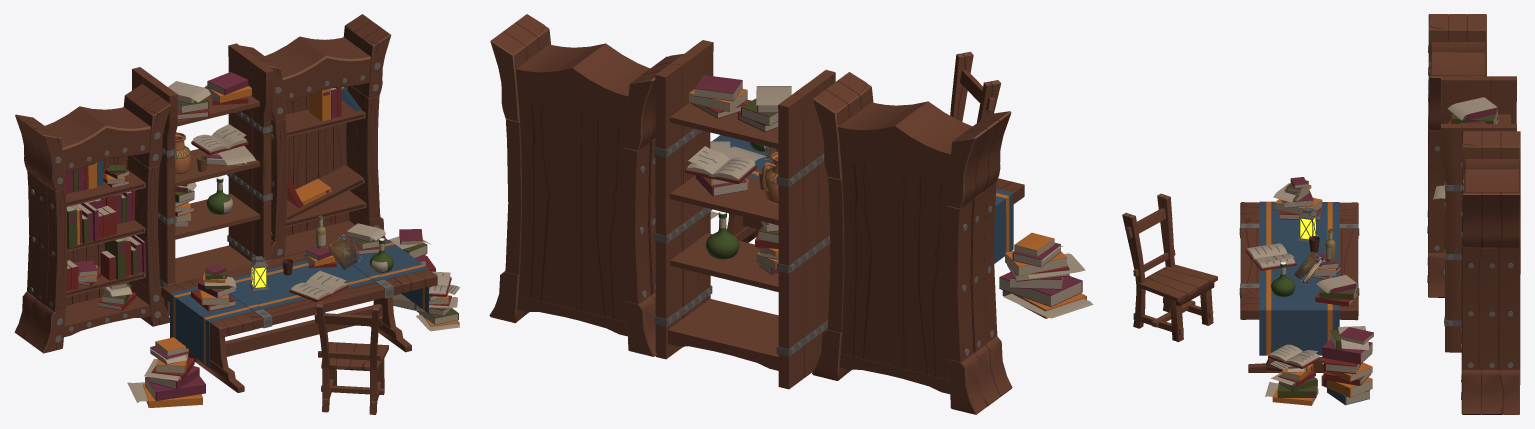
File: bookshelf.glb
3 views of the same model, side by side, from view 1: azimuth 30°, elevation 25°; view 2: azimuth 150°, elevation 25°; view 3: azimuth 270°, elevation 25° (orthographic). The views are drawn at different scales.
Parts seen in each view (by area): view 1: Object_13, Object_15, Object_18, Object_14, Object_20, Object_12, Object_7, Object_8, Object_9, Object_11, Object_19, Object_10 (+5 smaller); view 2: Object_13, Object_15, Object_18, Object_10, Object_11, Object_14, Object_12, Object_17, Object_7, Object_8, Object_20, Object_16 (+3 smaller); view 3: Object_13, Object_15, Object_20, Object_18, Object_14, Object_8, Object_12, Object_11, Object_7, Object_9, Object_19, Object_16 (+3 smaller).
Boxes of the visible parts, x1=… form: Object_13: x1=14, y1=14, x2=390, y2=353; Object_15: x1=132, y1=43, x2=388, y2=414; Object_18: x1=66, y1=81, x2=460, y2=406; Object_14: x1=143, y1=51, x2=437, y2=392; Object_20: x1=97, y1=87, x2=428, y2=366; Object_12: x1=15, y1=25, x2=391, y2=408; Object_7: x1=66, y1=72, x2=427, y2=400; Object_8: x1=74, y1=85, x2=459, y2=407; Object_9: x1=65, y1=87, x2=451, y2=381; Object_11: x1=173, y1=20, x2=426, y2=370; Object_19: x1=67, y1=98, x2=458, y2=324; Object_10: x1=22, y1=90, x2=293, y2=349; Object_13: x1=490, y1=14, x2=1012, y2=414; Object_15: x1=655, y1=40, x2=1000, y2=389; Object_18: x1=686, y1=81, x2=1093, y2=318; Object_10: x1=825, y1=80, x2=1000, y2=406; Object_11: x1=503, y1=22, x2=1013, y2=318; Object_14: x1=670, y1=53, x2=1024, y2=378; Object_12: x1=489, y1=25, x2=1011, y2=414; Object_17: x1=654, y1=129, x2=830, y2=356; Object_7: x1=694, y1=75, x2=1082, y2=306; Object_8: x1=689, y1=88, x2=1086, y2=318; Object_20: x1=712, y1=135, x2=1013, y2=263; Object_16: x1=639, y1=130, x2=993, y2=355; Object_13: x1=1428, y1=14, x2=1520, y2=414; Object_15: x1=1122, y1=76, x2=1516, y2=352; Object_20: x1=1259, y1=201, x2=1369, y2=405; Object_18: x1=1247, y1=97, x2=1498, y2=404; Object_14: x1=1240, y1=76, x2=1494, y2=372; Object_8: x1=1266, y1=184, x2=1372, y2=405; Object_12: x1=1122, y1=14, x2=1520, y2=414; Object_11: x1=1128, y1=131, x2=1519, y2=414; Object_7: x1=1282, y1=108, x2=1496, y2=397; Object_9: x1=1245, y1=117, x2=1498, y2=386; Object_19: x1=1277, y1=108, x2=1497, y2=397; Object_16: x1=1254, y1=45, x2=1513, y2=399.
Bounding box in the file's own units: 69.21 × 40.01 × 64.27.
Materials: 18 (1 with a texture image).
